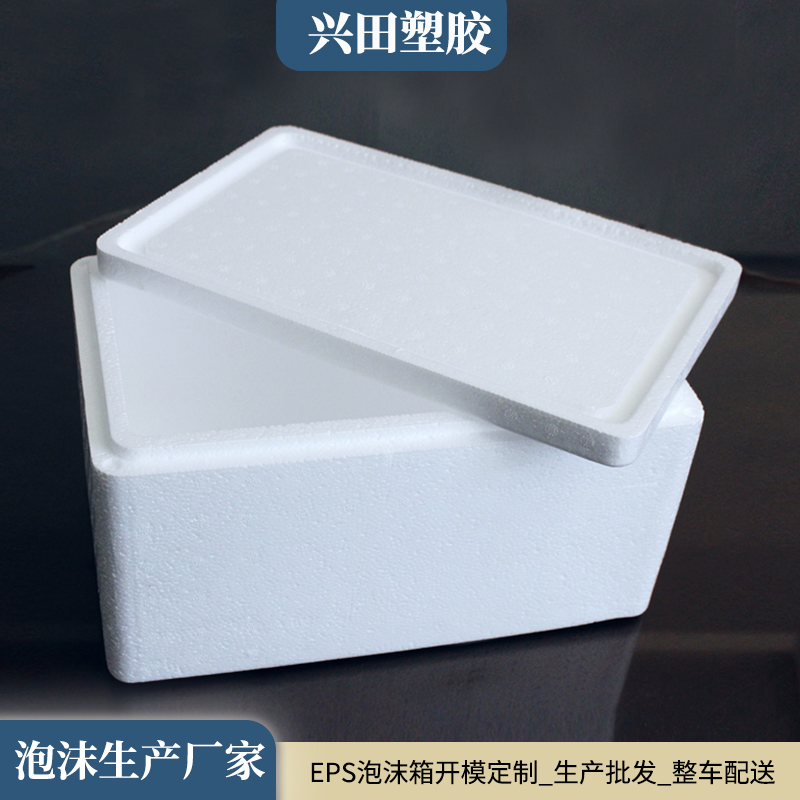Boxes: (71, 128, 740, 682)
